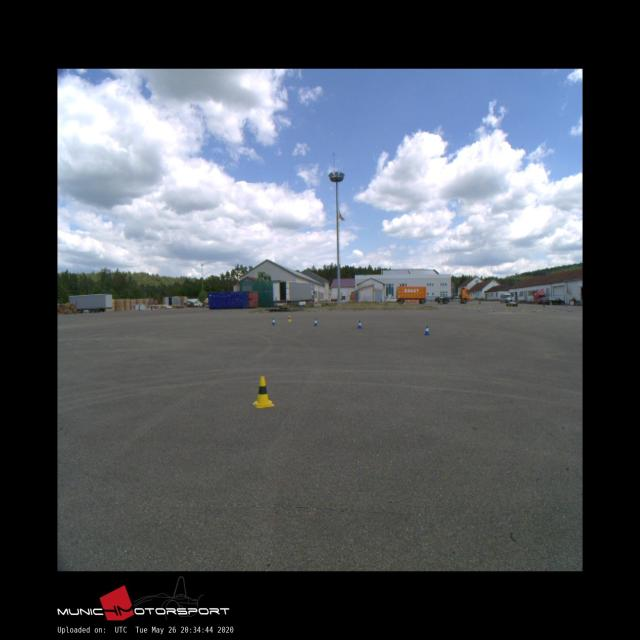blue_cone: (424, 325, 430, 335), (313, 318, 318, 326), (271, 317, 276, 325), (358, 320, 362, 328)
yellow_cone: (251, 375, 274, 407), (287, 315, 292, 322)
